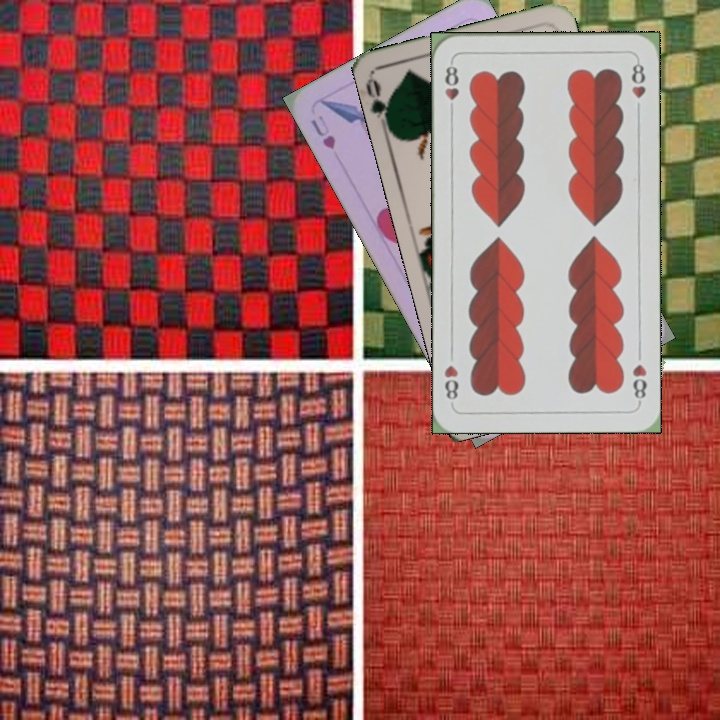GO: (363, 75, 395, 134)
H8: (441, 58, 461, 117), (628, 360, 649, 406)
HU: (307, 111, 339, 152)
